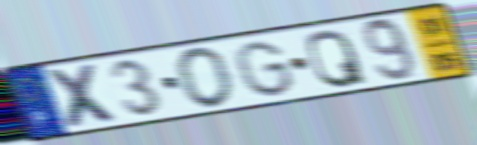3: (109, 57, 167, 120)
9: (363, 16, 420, 85)
G: (231, 39, 298, 99)
O: (174, 44, 236, 110)
Q: (304, 27, 371, 90)
X: (42, 61, 126, 131)
